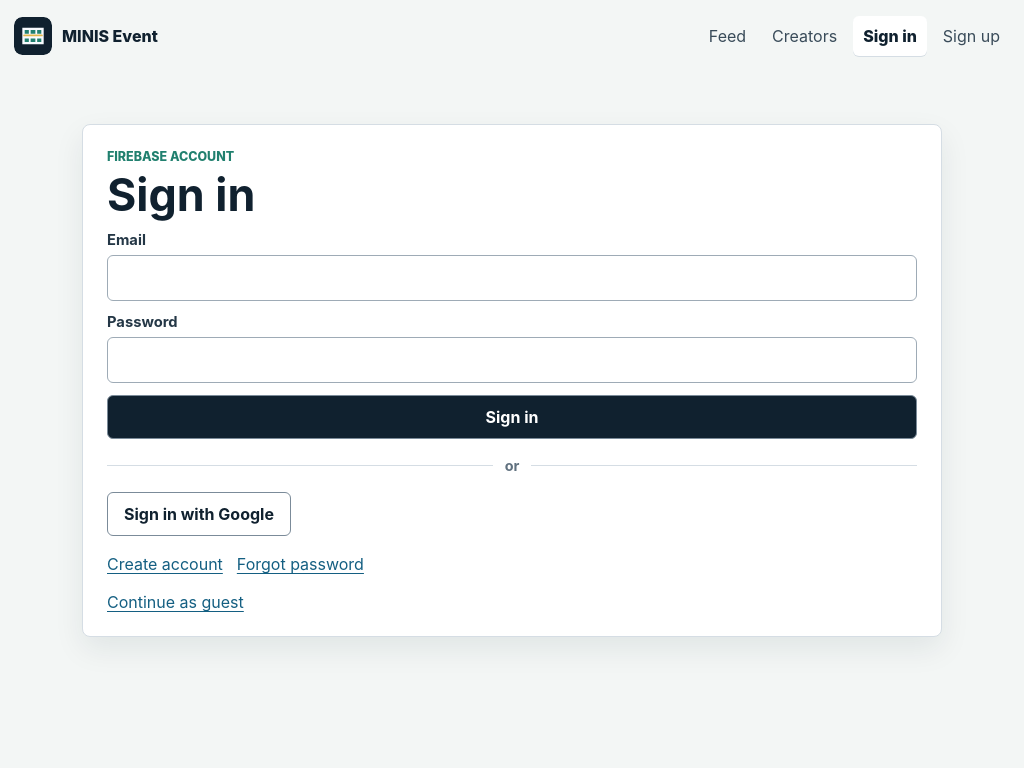
Test: AppRoutes authentication routes › shows sign-in validation
This screenshot has width=1024, height=768.
Click the button "Sign in": click(512, 417) left=107, top=395, right=917, bottom=439
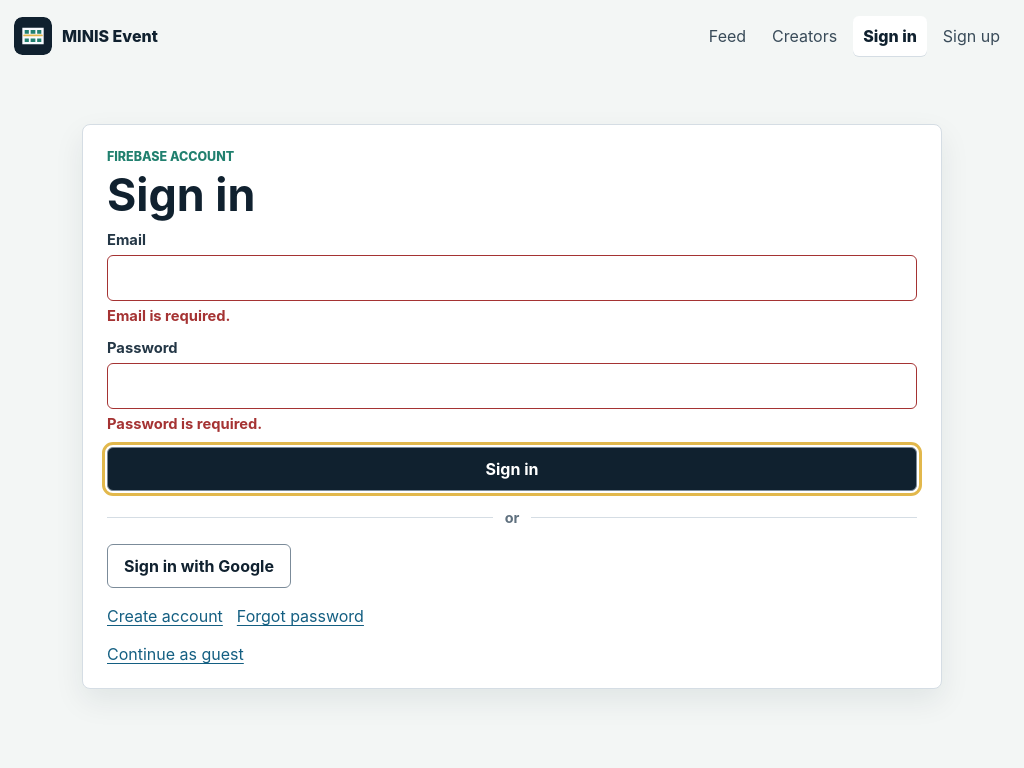
Now the text "Email is required." is shown, box left=107, top=307, right=230, bottom=325
Now the text "Password is required." is shown, box left=107, top=415, right=262, bottom=433
